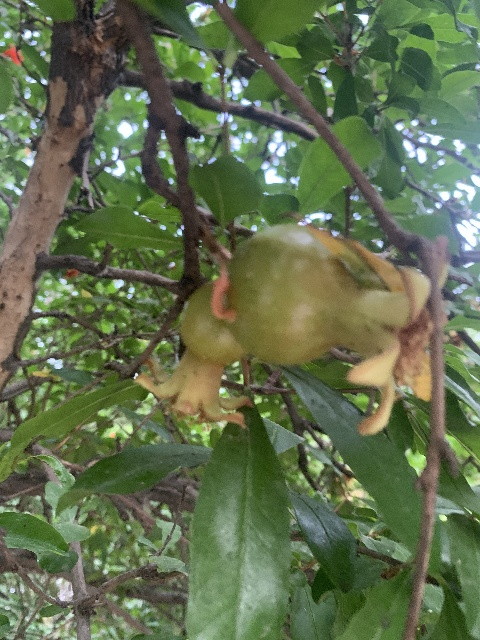mid-growth: (226, 223, 453, 436), (132, 277, 254, 427)
